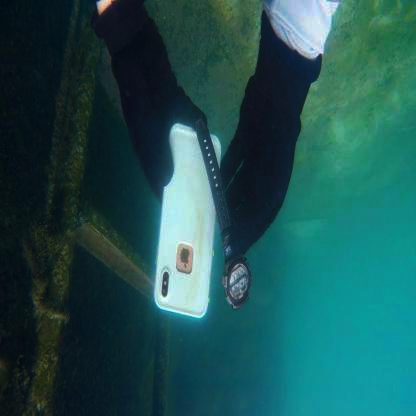cellphone: (153, 121, 221, 323)
misc: (194, 117, 253, 313)
